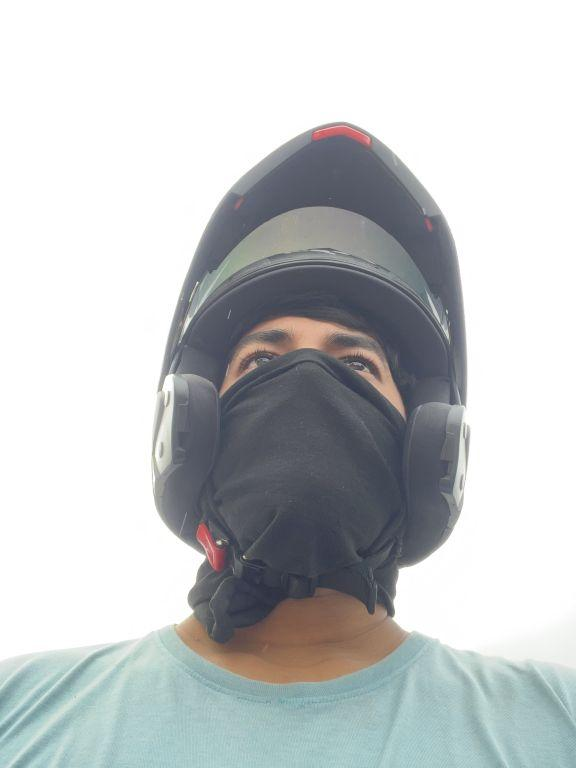helmet: (130, 107, 482, 615)
